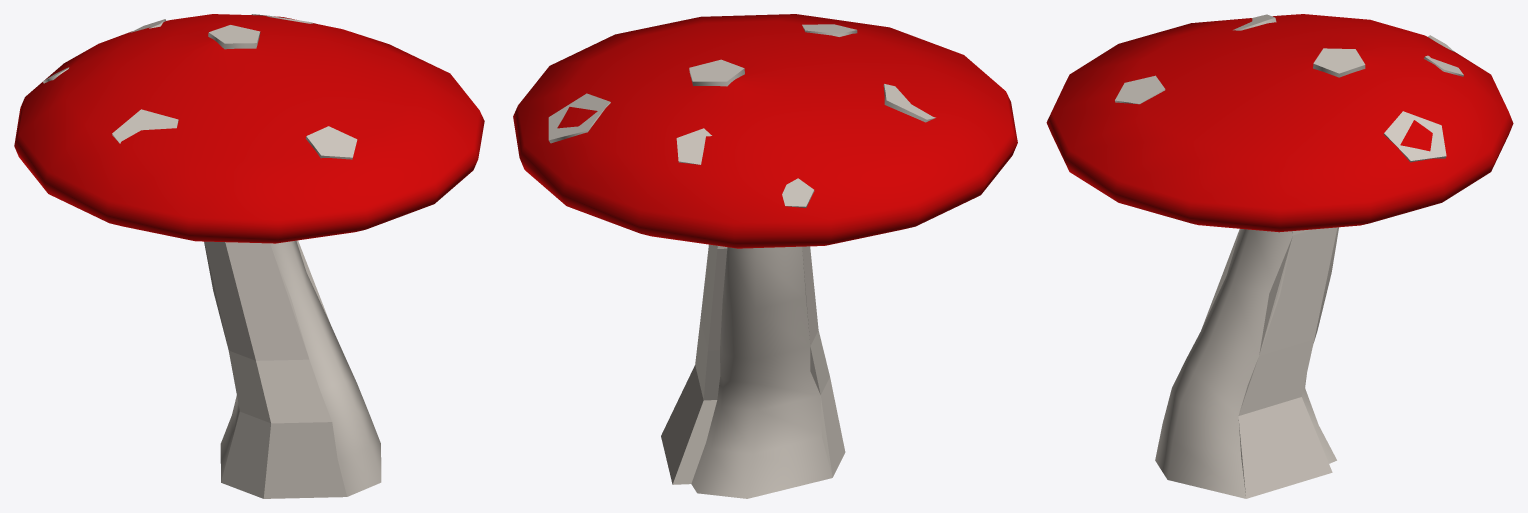
Rendered from sm_env_Mushroom01.fbx.
3 renders of one model, left to right at view 1: azimuth 30°, elevation 25°; view 2: azimuth 150°, elevation 25°; view 3: azimuth 270°, elevation 25°, orthographic. The views are drawn at different scales.
Parts seen in each view (by area): view 1: Loft_3, Loft, Loft_2, Cylinder_2, Cylinder_1, Cylinder; view 2: Loft_3, Loft_2, Loft, Cylinder_4, Cylinder, Cylinder_6, Cylinder_1, Cylinder_5; view 3: Loft_3, Loft_2, Loft, Cylinder_4, Cylinder, Cylinder_2.
Boxes of the visible parts, x1,y1,x2,y2 form: Loft_3: (14, 14, 484, 243); Loft: (204, 240, 351, 498); Loft_2: (204, 240, 381, 496); Cylinder_2: (305, 126, 357, 159); Cylinder_1: (112, 109, 178, 143); Cylinder: (208, 25, 260, 49); Loft_3: (513, 14, 1017, 248); Loft_2: (691, 245, 832, 498); Loft: (661, 244, 845, 484); Cylinder_4: (548, 93, 610, 143); Cylinder: (689, 59, 744, 86); Cylinder_6: (676, 128, 711, 164); Cylinder_1: (883, 84, 935, 122); Cylinder_5: (782, 178, 814, 207); Loft_3: (1046, 14, 1513, 232); Loft_2: (1155, 227, 1338, 498); Loft: (1202, 227, 1337, 498); Cylinder_4: (1383, 111, 1446, 162); Cylinder: (1313, 48, 1365, 77); Cylinder_2: (1115, 75, 1165, 104).
Bounding box in the file's own units: 1514 × 1411 × 1514.
